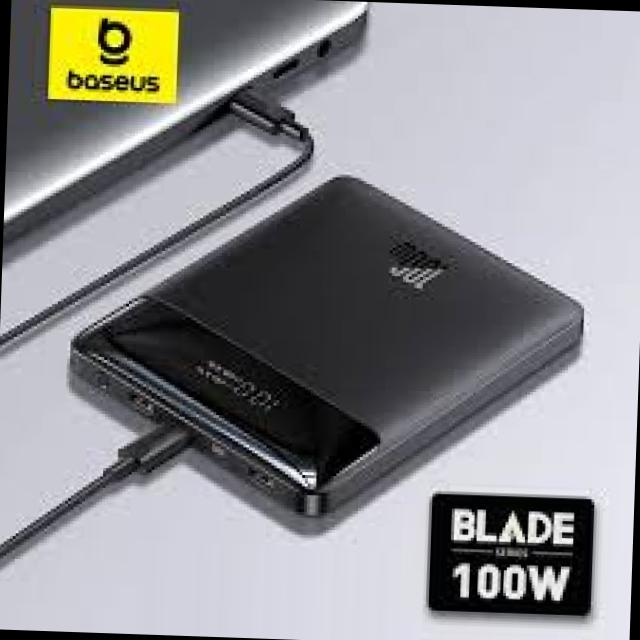power_bank: (56, 162, 590, 542)
